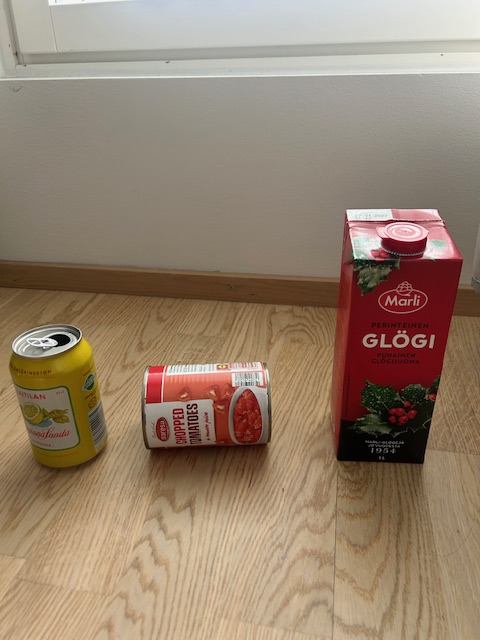Dryckeskartong: (330, 207, 464, 464)
Konservburk: (141, 362, 271, 450)
Pantburk: (9, 323, 109, 468)
